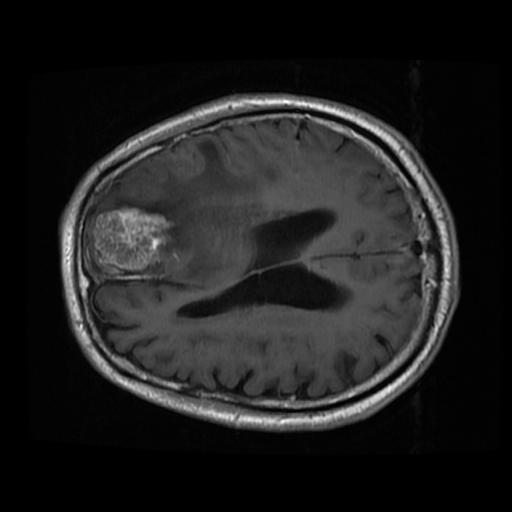meningioma: (91, 205, 173, 275)
